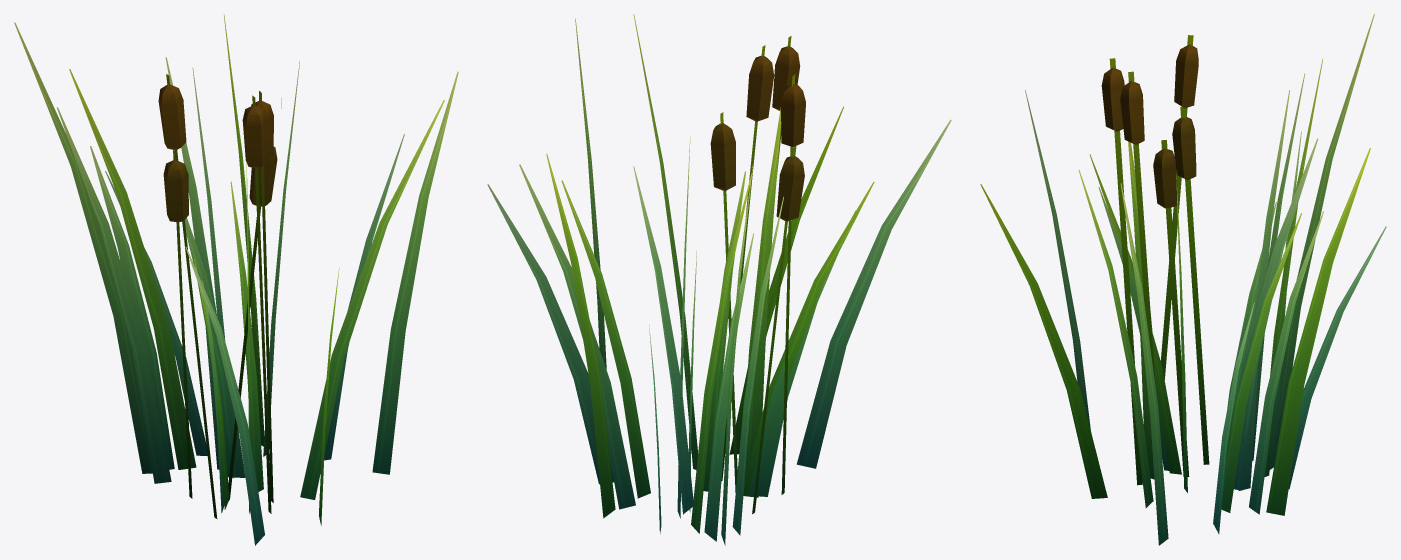
File: reeds_clump.glb
3 views of the same model, side by side, from view 1: azimuth 30°, elevation 25°; view 2: azimuth 150°, elevation 25°; view 3: azimuth 270°, elevation 25° (orthographic). The views are drawn at different scales.
Parts seen in each view (by area): view 1: reeds_clump; view 2: reeds_clump; view 3: reeds_clump.
Part boxes in pixels (box(x1,y1,x2,y2)): reeds_clump: box(14, 14, 458, 545); reeds_clump: box(487, 14, 951, 545); reeds_clump: box(980, 14, 1386, 545).
Bounding box in the file's own units: 1.19 × 1.46 × 1.29.
1 material, 1 textured.
